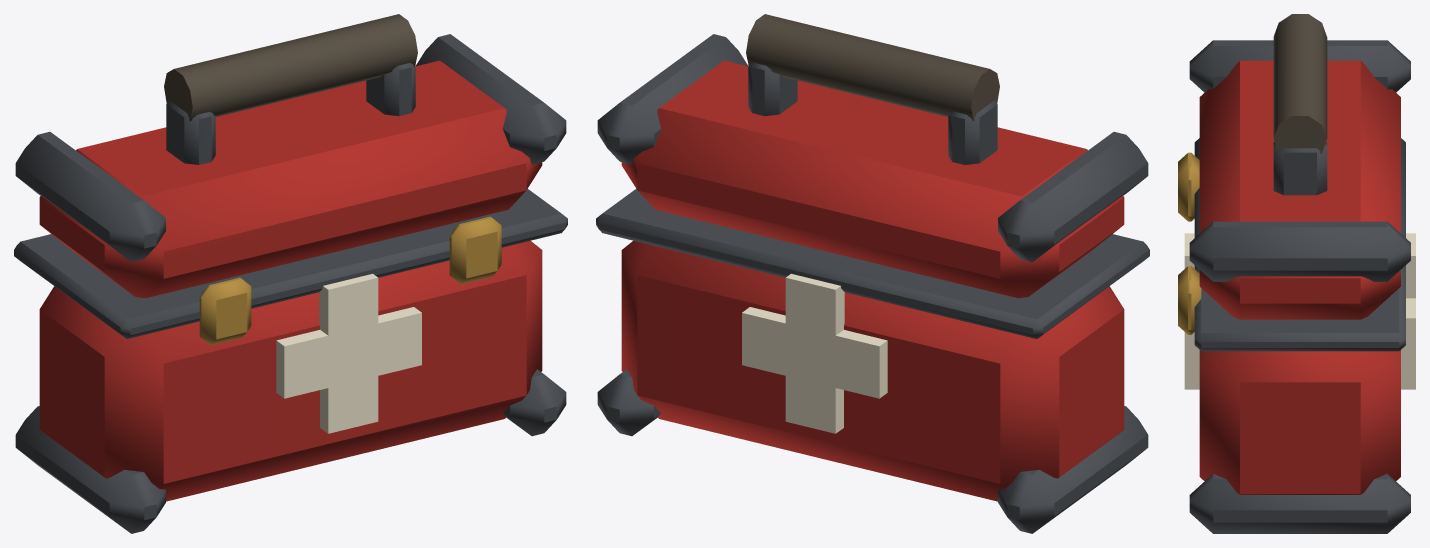
Rendered from SM_Medkit.fbx.
3 views of the same model, side by side, from view 1: azimuth 30°, elevation 25°; view 2: azimuth 150°, elevation 25°; view 3: azimuth 270°, elevation 25° (orthographic). The views are drawn at different scales.
Visible parts, largest first — view 1: SM_Medkit; view 2: SM_Medkit; view 3: SM_Medkit.
Boxes of the visible parts, x1,y1,x2,y2 form: SM_Medkit: (14,14,567,533); SM_Medkit: (596,14,1149,533); SM_Medkit: (1178,14,1415,533).
Bounding box in the file's own units: 1.46 × 1.24 × 0.71.
1 material, 1 textured.
